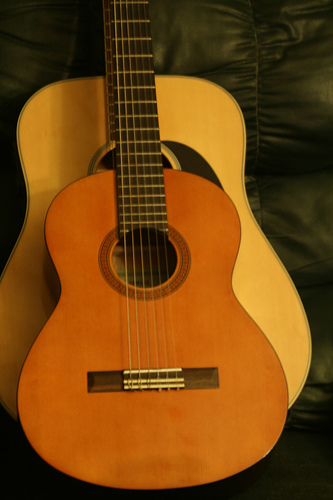guitar: (15, 1, 291, 493)
